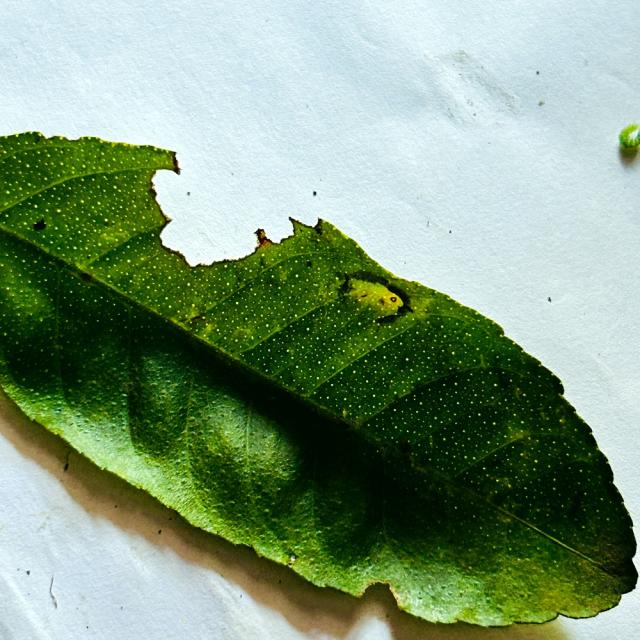Deficiency Leaf: (153, 151, 319, 265), (353, 582, 406, 627)
Lemon: (0, 132, 637, 625)
